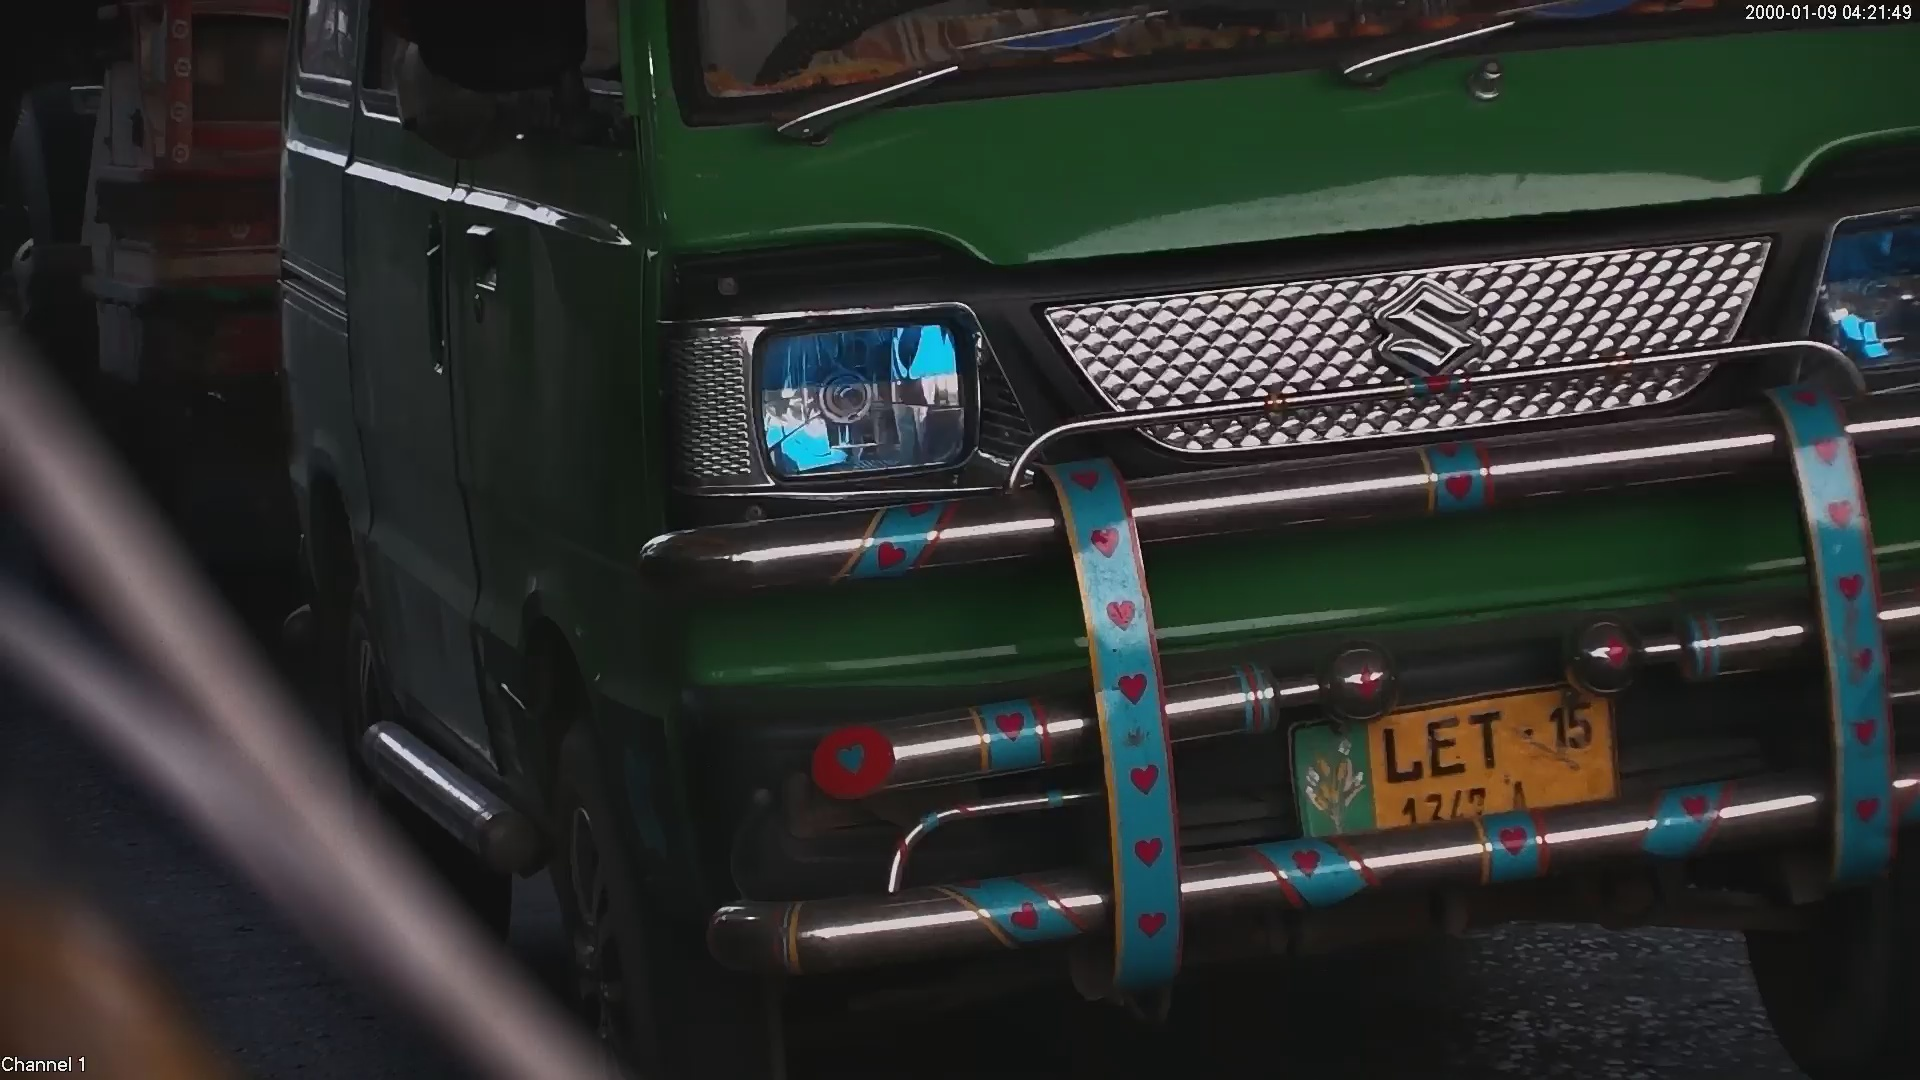Number_Plate: (1254, 655, 1650, 855)
Undefined: (641, 299, 1034, 505), (1802, 207, 1917, 386), (1350, 259, 1491, 383)
